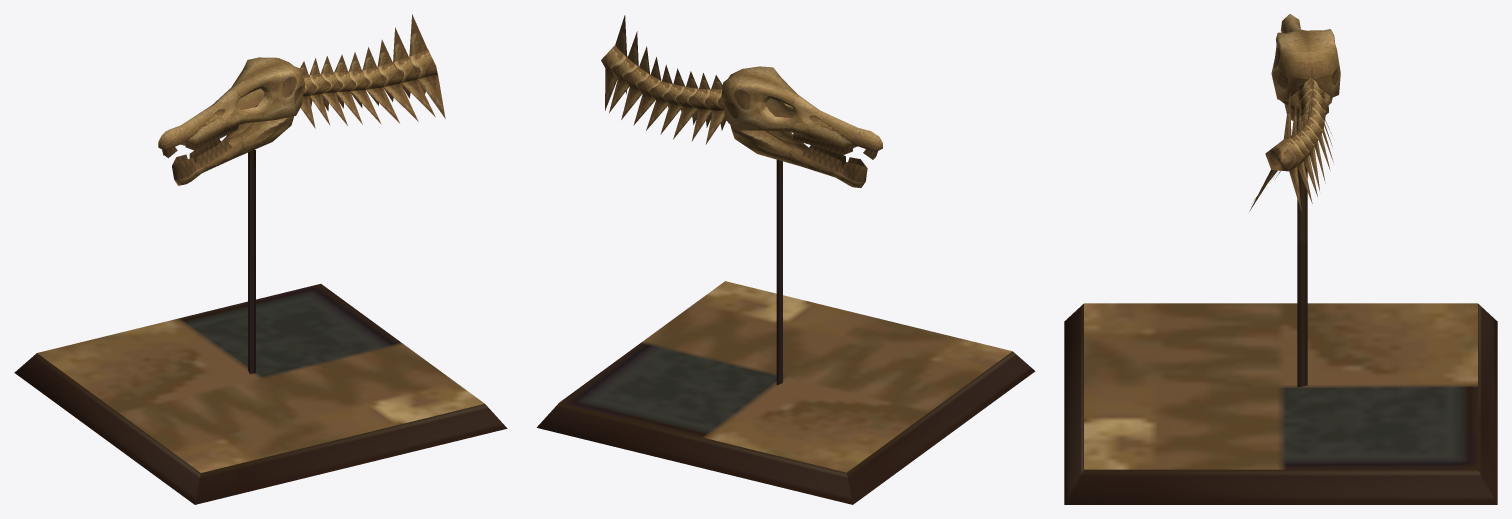
File: int_din_spi_a.dae
The picture shows the model from 3 angles, left to right: view 1: azimuth 30°, elevation 25°; view 2: azimuth 150°, elevation 25°; view 3: azimuth 270°, elevation 25°; orthographic projection. The views are drawn at different scales.
Parts seen in each view (by area): view 1: int_din_spi_a; view 2: int_din_spi_a; view 3: int_din_spi_a.
Part boxes in pixels (left/top/right/bottom): int_din_spi_a: left=14, top=14, right=507, bottom=504; int_din_spi_a: left=536, top=15, right=1035, bottom=504; int_din_spi_a: left=1064, top=14, right=1497, bottom=504.
Size of the model in its own units: 62.28 by 62 by 58.65.
Materials: 1 (1 with a texture image).
